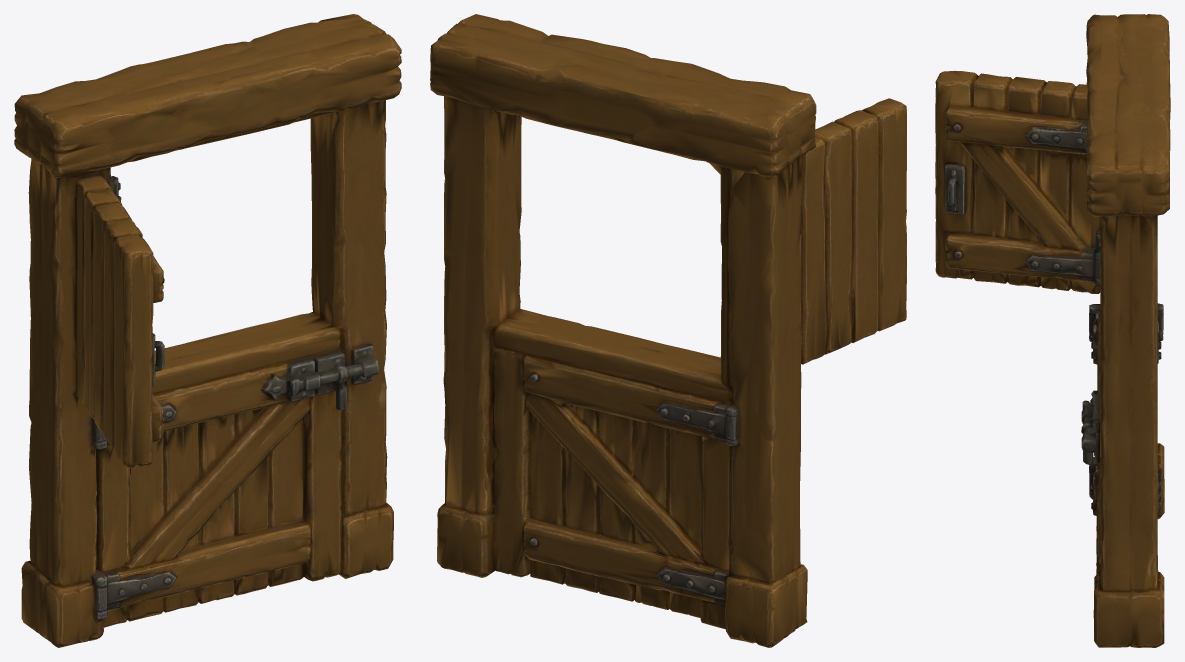
File: mod_door_d.glb
The picture shows the model from 3 angles, left to right: view 1: azimuth 30°, elevation 25°; view 2: azimuth 150°, elevation 25°; view 3: azimuth 270°, elevation 25°; orthographic projection. The views are drawn at different scales.
Parts seen in each view (by area): view 1: tripo_node_99c1ff92-cb12-4476-ad95-c52b824f3a6f; view 2: tripo_node_99c1ff92-cb12-4476-ad95-c52b824f3a6f; view 3: tripo_node_99c1ff92-cb12-4476-ad95-c52b824f3a6f.
Part boxes in pixels (x1,y1,x2,y2): tripo_node_99c1ff92-cb12-4476-ad95-c52b824f3a6f: (14,14,401,647); tripo_node_99c1ff92-cb12-4476-ad95-c52b824f3a6f: (430,14,906,647); tripo_node_99c1ff92-cb12-4476-ad95-c52b824f3a6f: (935,14,1170,647).
Size of the model in its own units: 0.693 by 0.9792 by 0.4309.
Materials: 1 (1 with a texture image).
